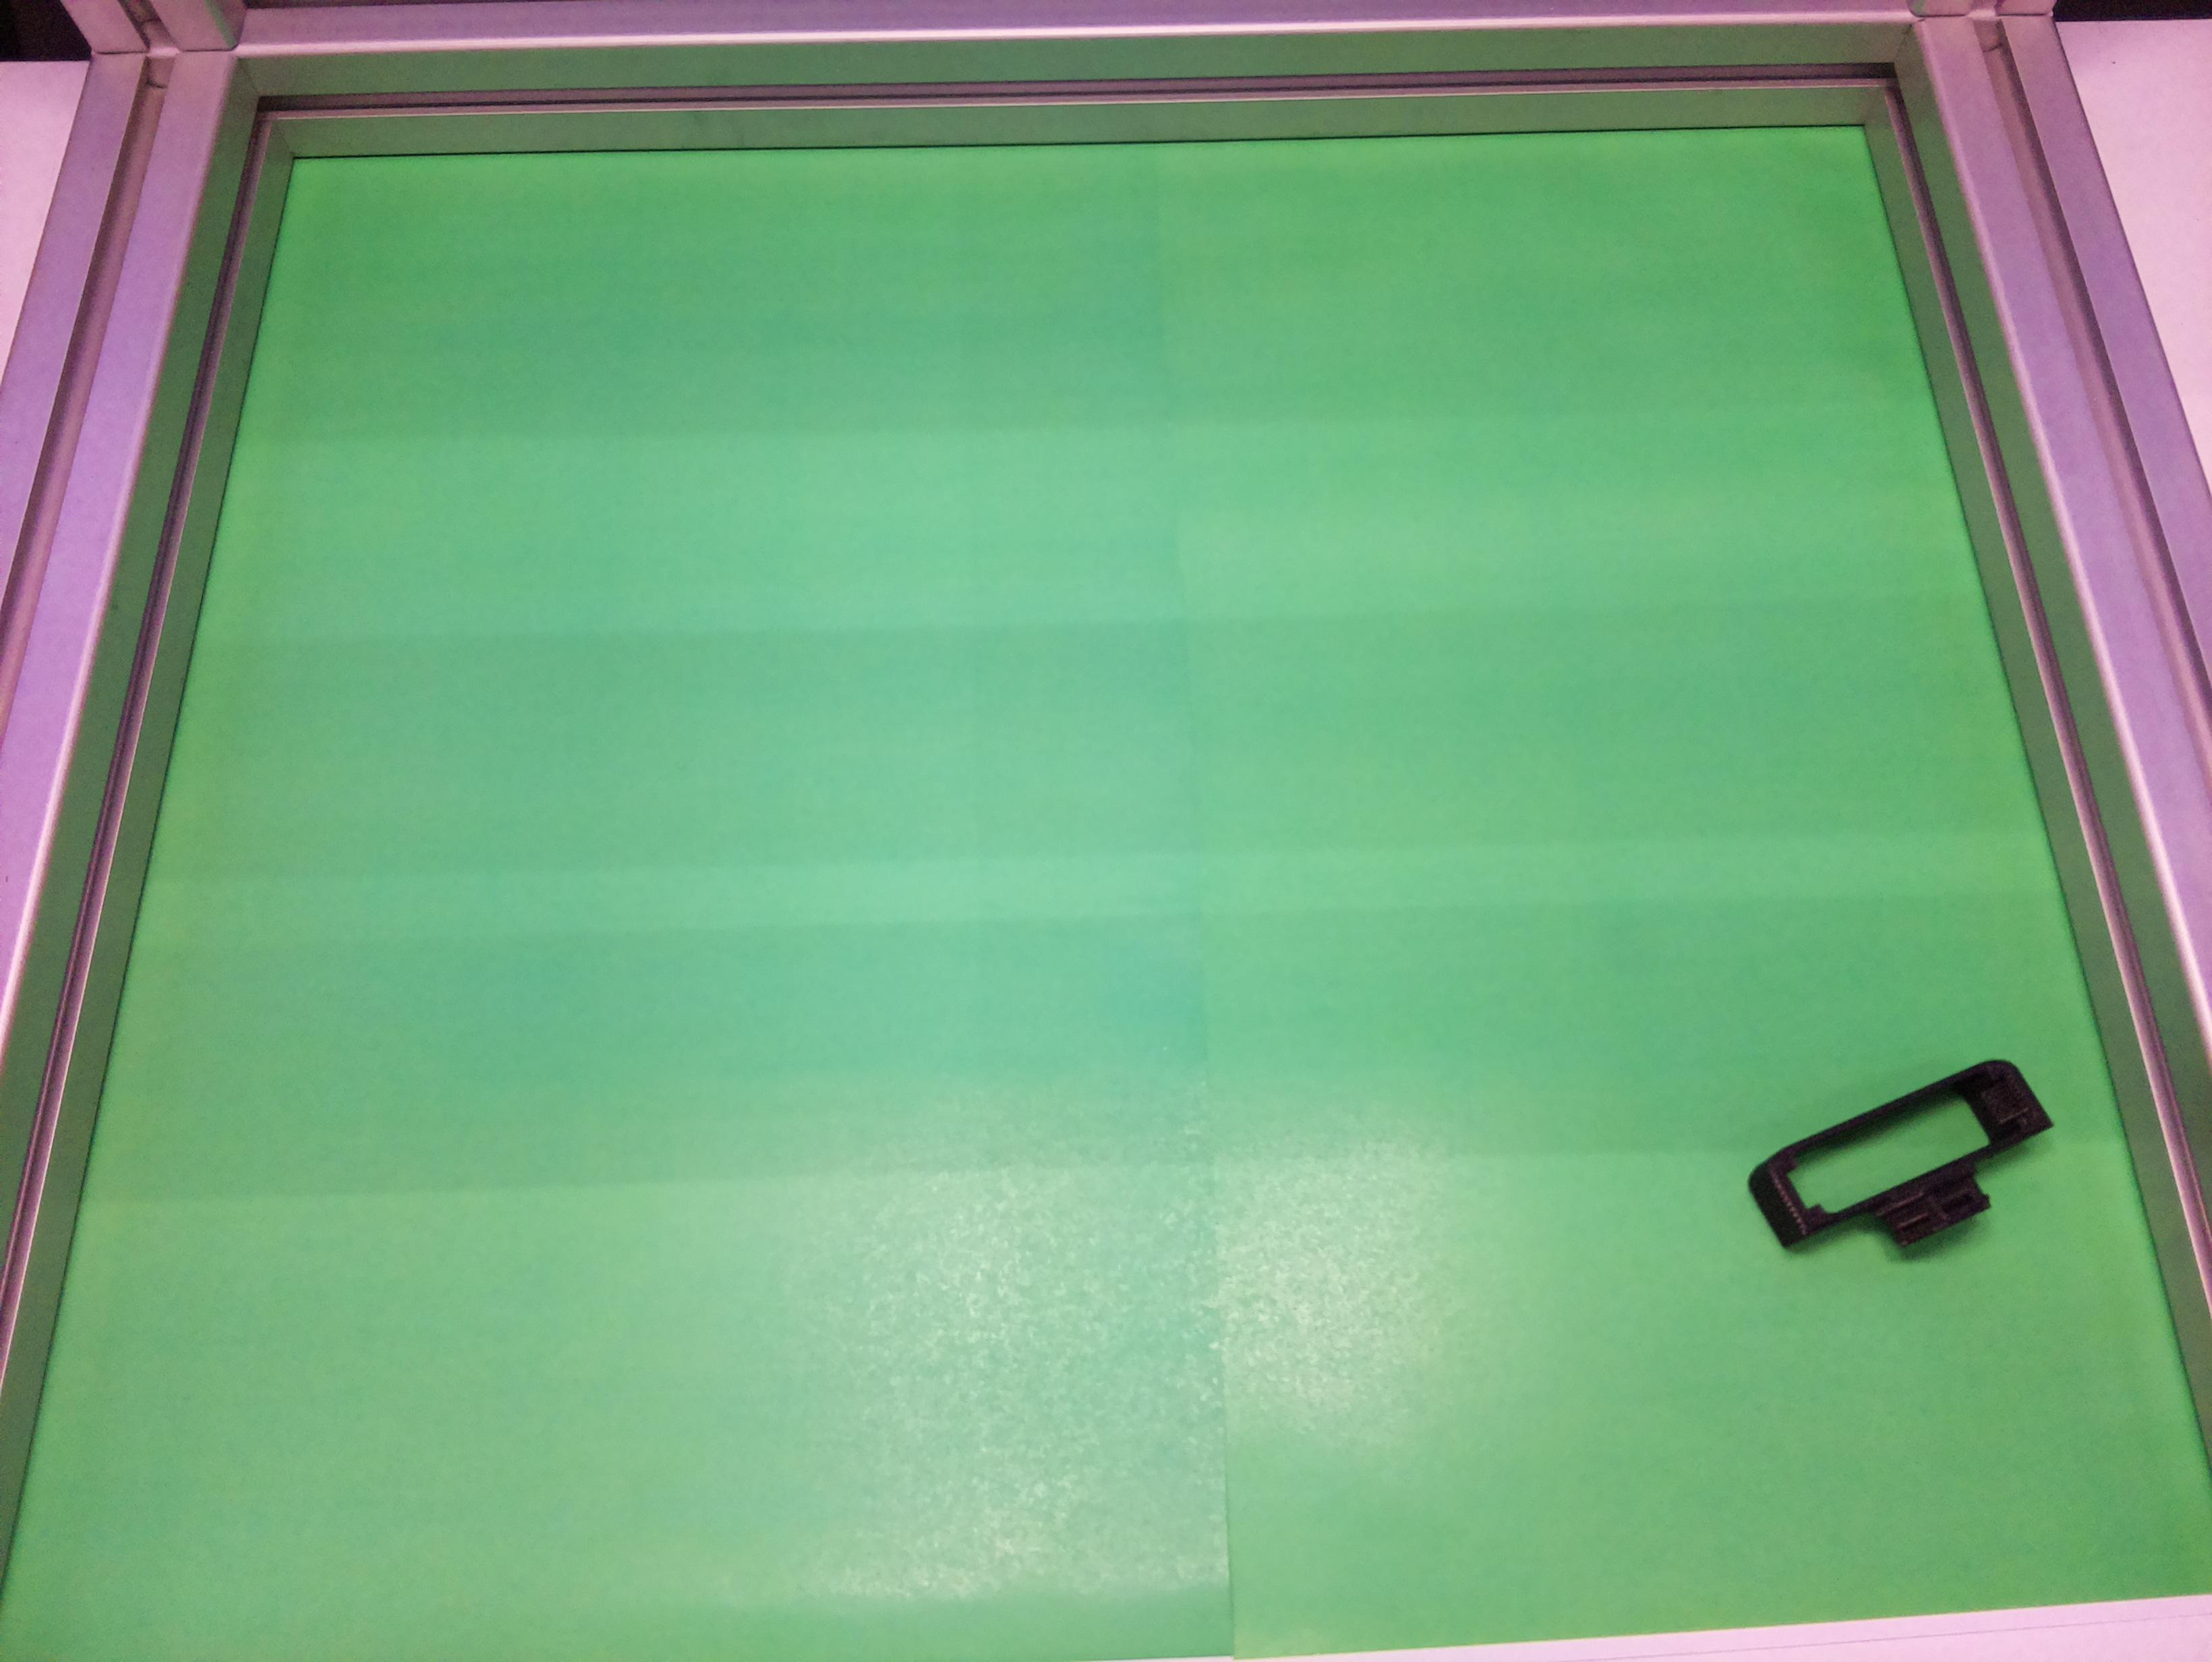cutter_holder: (1741, 1046, 2074, 1295)
